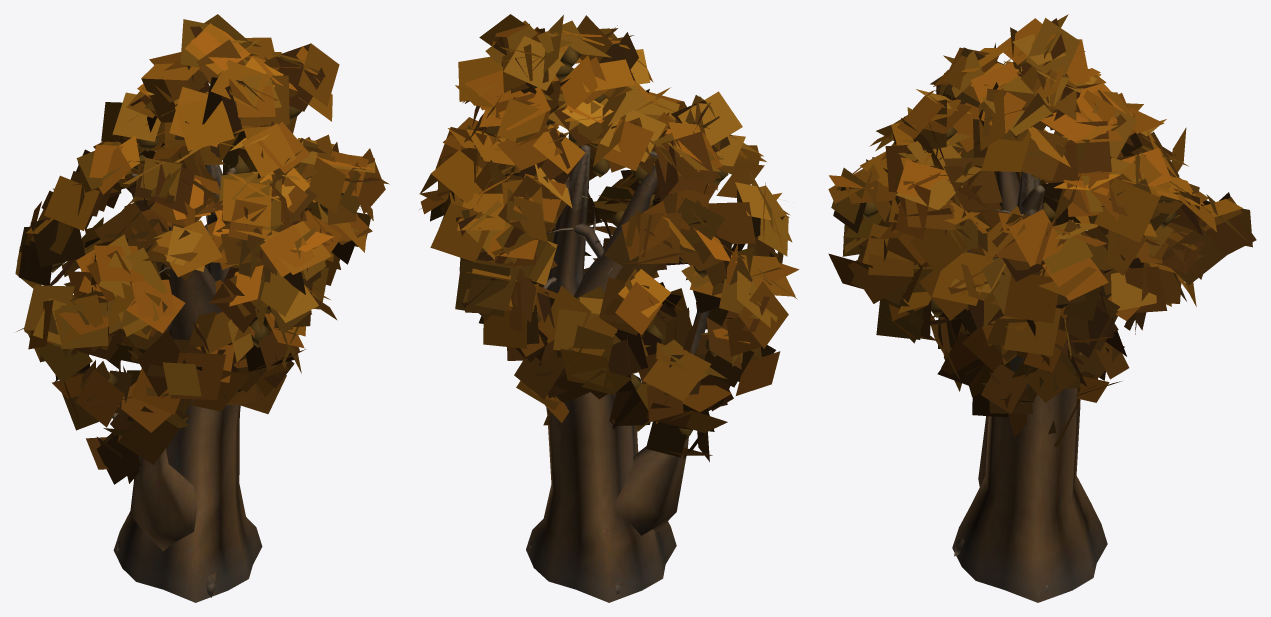
File: tree-09-brown.glb
3 renders of one model, left to right at view 1: azimuth 30°, elevation 25°; view 2: azimuth 150°, elevation 25°; view 3: azimuth 270°, elevation 25°, orthographic. The views are drawn at different scales.
Parts seen in each view (by area): view 1: tree-09-brown; view 2: tree-09-brown; view 3: tree-09-brown.
Boxes of the visible parts, bbox=[...] form: tree-09-brown: bbox=[15, 14, 389, 602]; tree-09-brown: bbox=[419, 14, 799, 602]; tree-09-brown: bbox=[828, 14, 1256, 602].
Size of the model in its own units: 5.33 by 8.12 by 5.59.
Materials: 3 (1 with a texture image).
